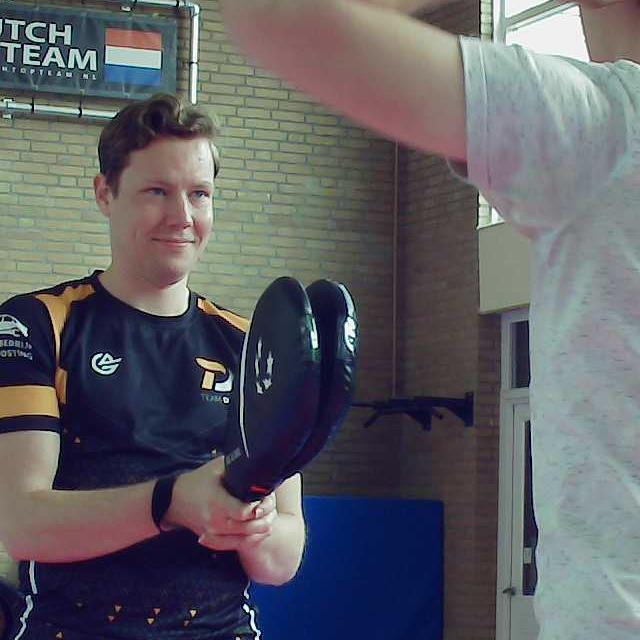paddle: (223, 275, 364, 503)
